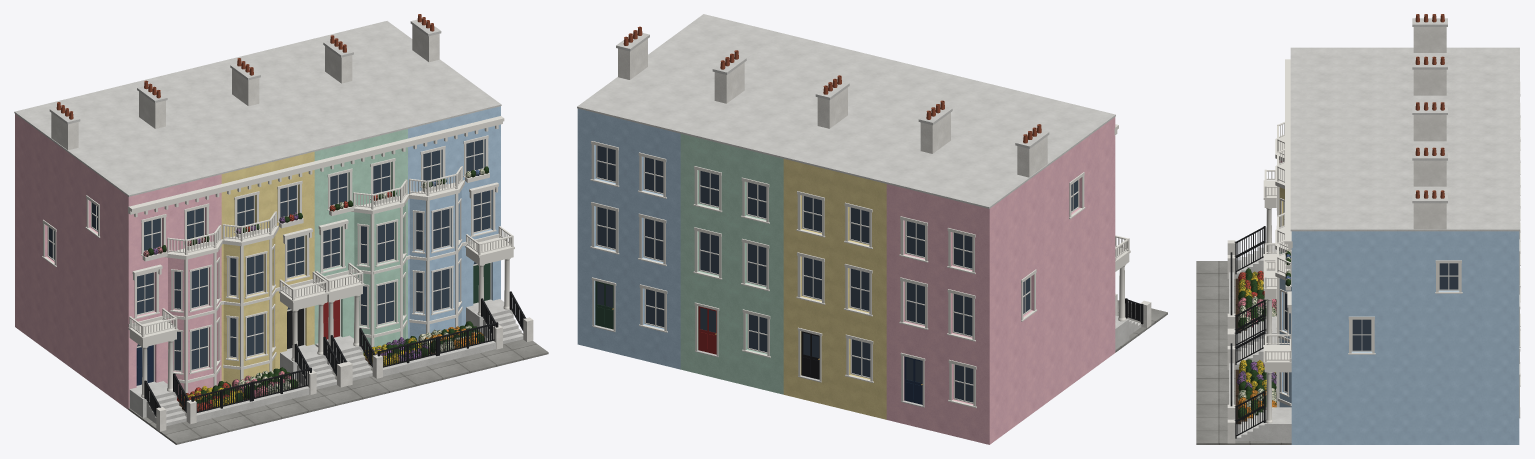
File: pastel-townhouses.glb
3 views of the same model, side by side, from view 1: azimuth 30°, elevation 25°; view 2: azimuth 150°, elevation 25°; view 3: azimuth 270°, elevation 25° (orthographic). The views are drawn at different scales.
Parts seen in each view (by area): view 1: Pastel_Townhouses; view 2: Pastel_Townhouses; view 3: Pastel_Townhouses.
Boxes of the visible parts, x1=… form: Pastel_Townhouses: x1=14, y1=14, x2=548, y2=444; Pastel_Townhouses: x1=577, y1=14, x2=1167, y2=444; Pastel_Townhouses: x1=1196, y1=14, x2=1520, y2=444.
Bounding box in the file's own units: 20.94 × 13.38 × 15.67.
Materials: 27 (18 with a texture image).
